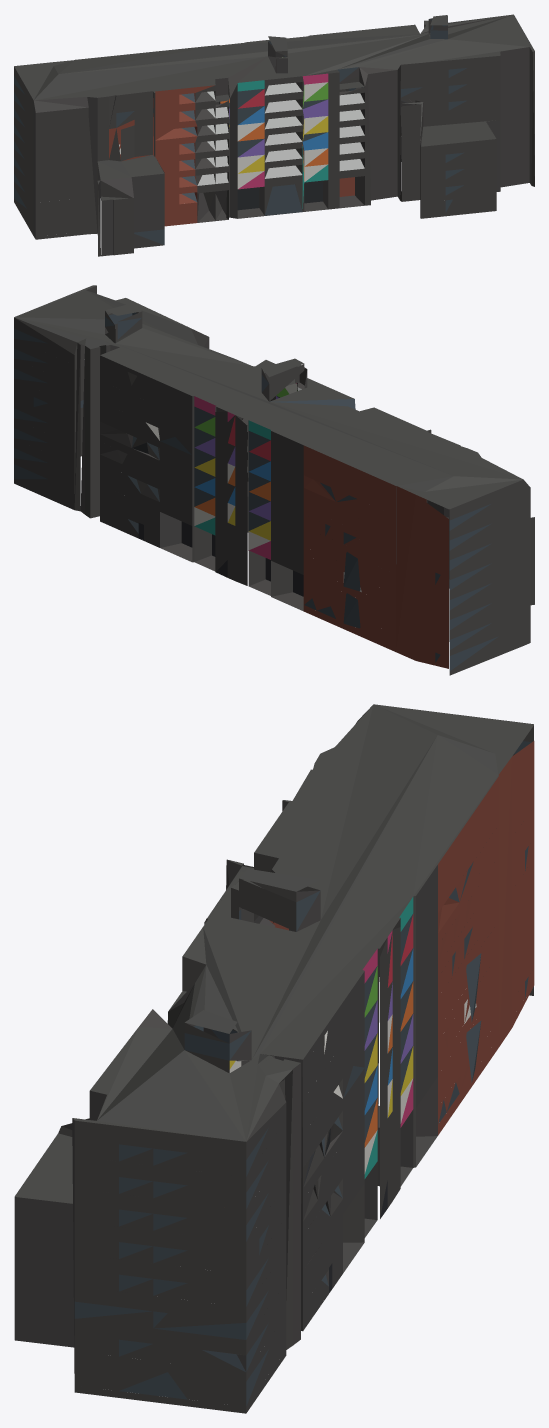
Rendered from sumatrakade-1101.lod2.glb.
3 renders of one model, top to bottom at view 1: azimuth 30°, elevation 25°; view 2: azimuth 150°, elevation 25°; view 3: azimuth 270°, elevation 25°, orthographic. The views are drawn at different scales.
Parts seen in each view (by area): view 1: lod2; view 2: lod2; view 3: lod2.
Part boxes in pixels (x1=…): lod2: x1=14, y1=14, x2=534, y2=256; lod2: x1=14, y1=285, x2=534, y2=675; lod2: x1=14, y1=704, x2=534, y2=1413.
Size of the model in its own units: 82.49 by 27.39 by 41.23.
